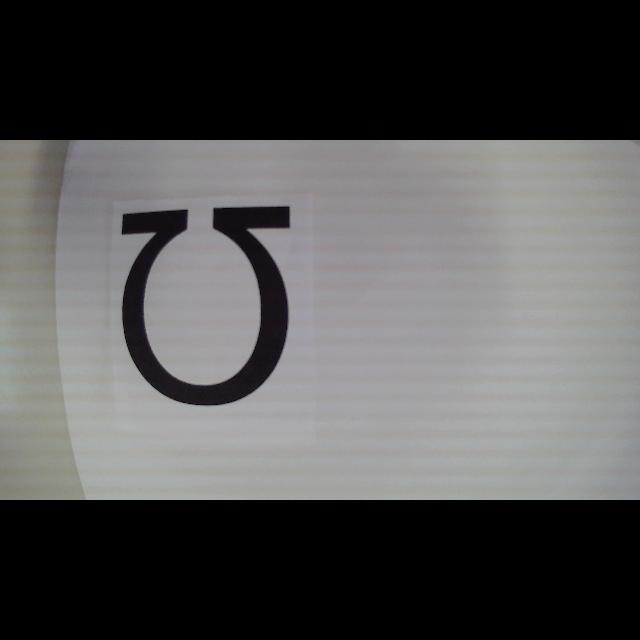OMEGA: (122, 206, 290, 406)
